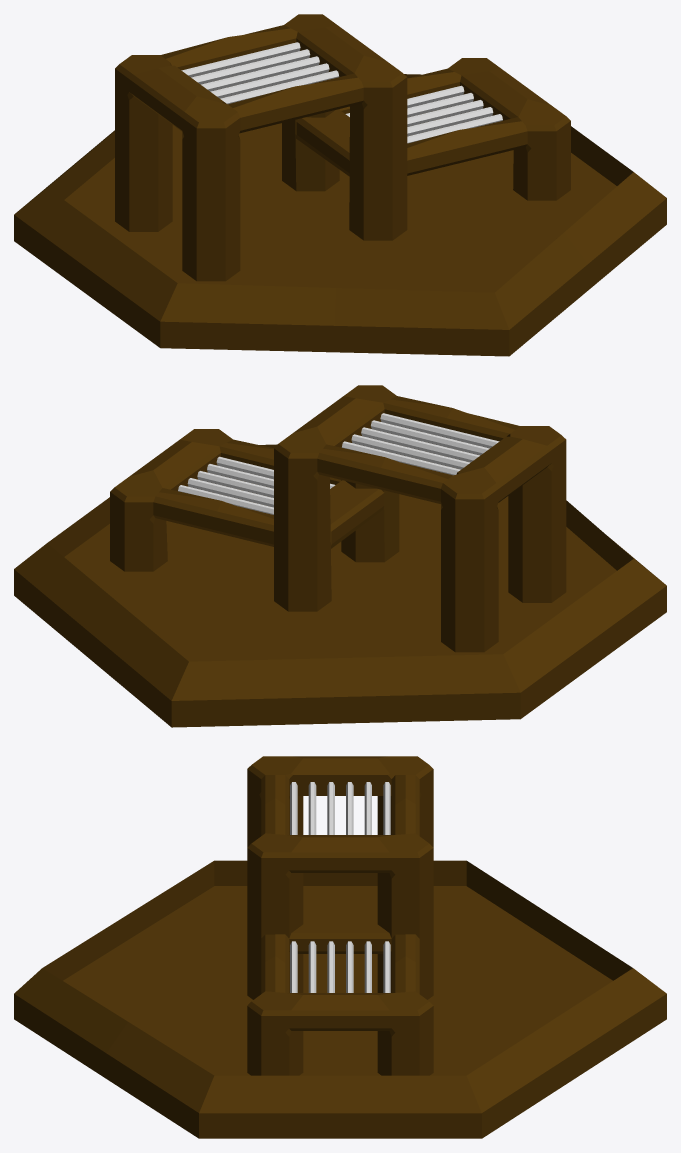
File: loom.fbx
3 renders of one model, top to bottom at view 1: azimuth 30°, elevation 25°; view 2: azimuth 150°, elevation 25°; view 3: azimuth 270°, elevation 25°, orthographic. The views are drawn at different scales.
Parts seen in each view (by area): view 1: Loom Base, Loom; view 2: Loom Base, Loom; view 3: Loom Base, Loom.
Part boxes in pixels (x1,y1,x2,y2): Loom Base: (14,74,666,356); Loom: (115,14,570,281); Loom Base: (14,444,666,727); Loom: (110,385,566,652); Loom Base: (14,860,666,1138); Loom: (247,756,433,1075).
Size of the model in its own units: 200 by 71.81 by 231.
